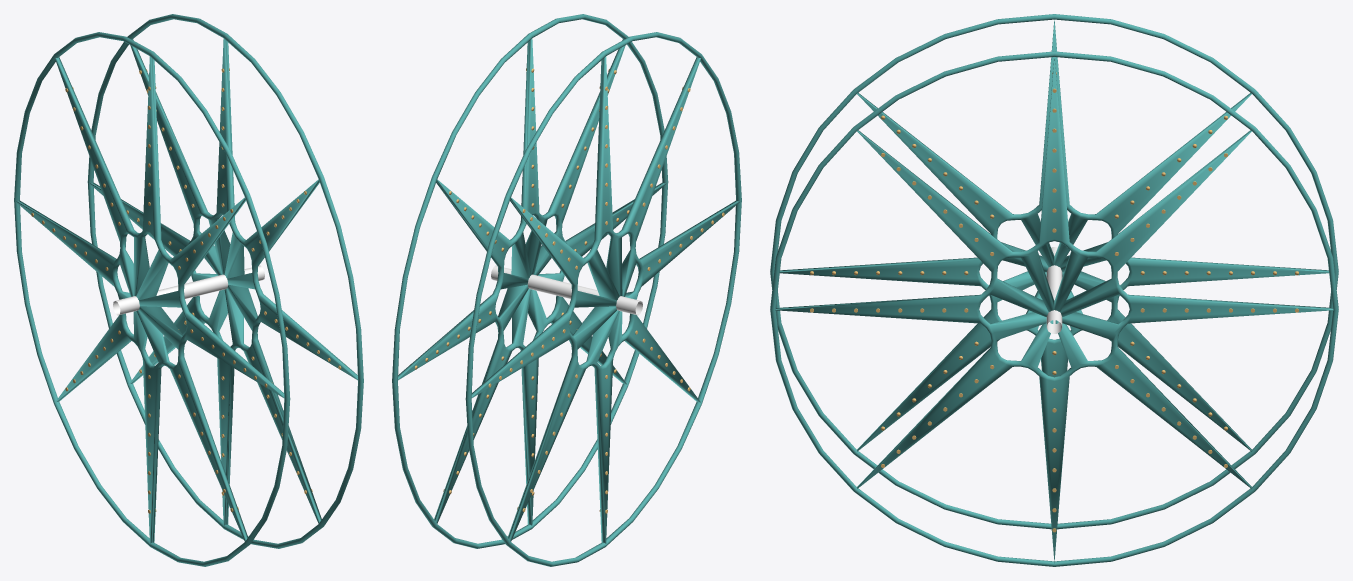
The model's file is BigWheel.fbx.
3 renders of one model, left to right at view 1: azimuth 30°, elevation 25°; view 2: azimuth 150°, elevation 25°; view 3: azimuth 270°, elevation 25°, orthographic. The views are drawn at different scales.
Parts seen in each view (by area): view 1: BigWheel, BigWheelLamps, BigWheelCenterBar; view 2: BigWheel, BigWheelLamps, BigWheelCenterBar; view 3: BigWheel, BigWheelLamps, BigWheelCenterBar.
Part boxes in pixels (x1,y1,x2,y2): BigWheel: (14, 14, 363, 566); BigWheelLamps: (31, 68, 345, 513); BigWheelCenterBar: (113, 265, 264, 315); BigWheel: (392, 14, 741, 566); BigWheelLamps: (410, 68, 724, 513); BigWheelCenterBar: (491, 265, 642, 315); BigWheel: (770, 14, 1338, 566); BigWheelLamps: (810, 72, 1298, 532); BigWheelCenterBar: (1046, 247, 1062, 333).
Size of the model in its own units: 164 by 539 by 539.
